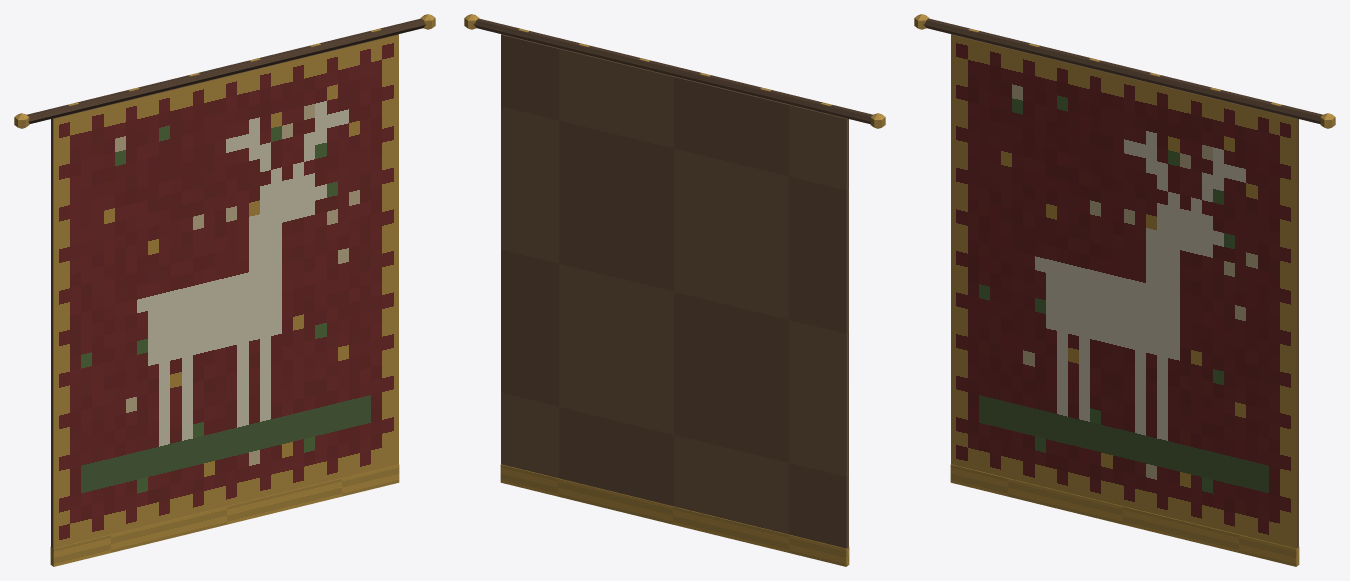
Rendered from tapestry-c.glb.
3 views of the same model, side by side, from view 1: azimuth 30°, elevation 25°; view 2: azimuth 150°, elevation 25°; view 3: azimuth 330°, elevation 25° (orthographic).
Parts seen in each view (by area): view 1: tapestry-c.001; view 2: tapestry-c.001; view 3: tapestry-c.001.
Part boxes in pixels (x1=…): tapestry-c.001: x1=14, y1=14, x2=435, y2=566; tapestry-c.001: x1=464, y1=14, x2=885, y2=566; tapestry-c.001: x1=914, y1=14, x2=1335, y2=566.
Bounding box in the file's own units: 1.93 × 2.04 × 0.0606.
1 material, 1 textured.
